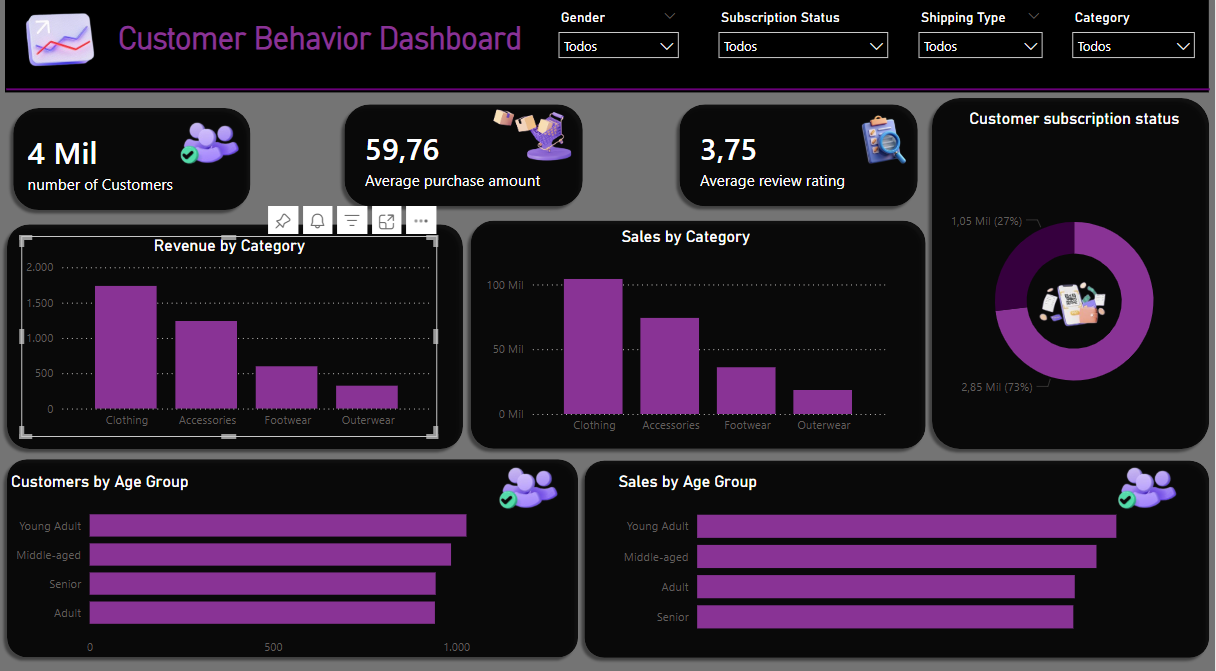

The page's visual inventory and layout, read from the dashboard file:
{"tool":"powerbi","page":{"name":"Página 1","canvas":[1280,720],"ordinal":0},"visuals":[{"type":"shape","box":[7.1,232.7,487.8,251.5],"z":0},{"type":"shape","box":[973.2,99.9,299.7,384.4],"z":500},{"type":"shape","box":[5.6,0,1267.3,101.5],"z":1000},{"type":"shape","box":[0,480.7,615.9,223.3],"z":2000},{"type":"shape","box":[487.8,229.2,493.7,255.1],"z":2500},{"type":"shape","box":[355,107,265.6,122.2],"z":3000},{"type":"shape","box":[607.7,481.9,659.4,222.1],"z":3500},{"type":"shape","box":[707.6,107,265.6,122.2],"z":4000},{"type":"shape","box":[7.1,110.5,264.5,122.2],"z":5000},{"type":"cardVisual","fields":{"Data":["public customer_behavior.Average purchase amount"]},"box":[354.8,94.7,303.4,153.2],"z":6000},{"type":"cardVisual","fields":{"Data":["public customer_behavior.Averege review rating"]},"box":[707.5,95.7,300.3,150.2],"z":7000},{"type":"cardVisual","fields":{"Data":["public customer_behavior.number of Customers"]},"box":[0,101.1,300.9,149.3],"z":8000},{"type":"donutChart","title":"Customer subscription status","fields":{"Category":["public customer_behavior.Subscription Status"],"Y":["CountNonNull(public customer_behavior.Customer ID)"]},"box":[981.7,118.9,282.2,386],"z":9000},{"type":"clusteredColumnChart","title":"Sales by Category","fields":{"Category":["public customer_behavior.Category"],"Y":["Sum(public customer_behavior.Purchase Amount (USD))"]},"box":[507,242.9,430.4,226.8],"z":10000},{"type":"clusteredColumnChart","title":"Revenue by Category","fields":{"Category":["public customer_behavior.Category"],"Y":["CountNonNull(public customer_behavior.Customer ID)"]},"box":[30.6,250.4,438.4,211.6],"z":11000},{"type":"slicer","fields":{"Values":["public customer_behavior.Subscription Status"]},"box":[745.7,9.9,198.8,91.6],"z":12000},{"type":"slicer","fields":{"Values":["public customer_behavior.Gender"]},"box":[578,9.9,146.6,97.3],"z":13000},{"type":"slicer","fields":{"Values":["public customer_behavior.Category"]},"box":[1117.9,9.9,149.4,94.4],"z":14000},{"type":"slicer","fields":{"Values":["public customer_behavior.Shipping Type"]},"box":[957.2,9.9,150.8,97.3],"z":15000},{"type":"clusteredBarChart","title":"Sales by Age Group","fields":{"Category":["public customer.age_group"],"Y":["Sum(public customer_behavior.Purchase Amount (USD))"]},"box":[646.5,500.7,590,183.4],"z":16000},{"type":"clusteredBarChart","title":"Customers by Age Group","fields":{"Category":["public customer.age_group"],"Y":["CountNonNull(public customer_behavior.Customer ID)"]},"box":[7.2,500.9,571,202],"z":17000},{"type":"textbox","box":[119.9,19.1,437.4,71.6],"z":17001},{"type":"image","box":[485.8,98.8,130,96.8],"z":17002},{"type":"image","box":[896,120.9,68.5,60.5],"z":17003},{"type":"image","box":[178.4,120.9,83.7,71.6],"z":17004},{"type":"image","box":[515,484.8,83.7,71.6],"z":17005},{"type":"image","box":[22.2,0,81.6,87.7],"z":17006},{"type":"image","box":[1074.4,261,96.8,124],"z":17007},{"type":"image","box":[1166.1,484.8,83.7,71.6],"z":17008},{"type":"shape","box":[6,64.5,1266.9,67.5],"z":17009}]}

Visuals, with their boxes in screenshot pixels (x1, y1, x2, y2), scaled from the page's 1280x720 canvas onto the 1216x671 screenshot:
shape: bbox=[7, 217, 470, 451]
shape: bbox=[925, 93, 1209, 451]
shape: bbox=[5, 0, 1209, 95]
shape: bbox=[0, 448, 585, 656]
shape: bbox=[463, 214, 932, 451]
shape: bbox=[337, 100, 590, 214]
shape: bbox=[577, 449, 1204, 656]
shape: bbox=[672, 100, 925, 214]
shape: bbox=[7, 103, 258, 217]
cardVisual - public customer_behavior.Average purchase amount: bbox=[337, 88, 625, 231]
cardVisual - public customer_behavior.Averege review rating: bbox=[672, 89, 957, 229]
cardVisual - public customer_behavior.number of Customers: bbox=[0, 94, 286, 233]
"Customer subscription status" donutChart: bbox=[933, 111, 1201, 471]
"Sales by Category" clusteredColumnChart: bbox=[482, 226, 891, 438]
"Revenue by Category" clusteredColumnChart: bbox=[29, 233, 446, 431]
slicer - public customer_behavior.Subscription Status: bbox=[708, 9, 897, 95]
slicer - public customer_behavior.Gender: bbox=[549, 9, 688, 100]
slicer - public customer_behavior.Category: bbox=[1062, 9, 1204, 97]
slicer - public customer_behavior.Shipping Type: bbox=[909, 9, 1053, 100]
"Sales by Age Group" clusteredBarChart: bbox=[614, 467, 1175, 638]
"Customers by Age Group" clusteredBarChart: bbox=[7, 467, 549, 655]
textbox: bbox=[114, 18, 529, 85]
image: bbox=[462, 92, 585, 182]
image: bbox=[851, 113, 916, 169]
image: bbox=[169, 113, 249, 179]
image: bbox=[489, 452, 569, 519]
image: bbox=[21, 0, 99, 82]
image: bbox=[1021, 243, 1113, 359]
image: bbox=[1108, 452, 1187, 519]
shape: bbox=[6, 60, 1209, 123]
